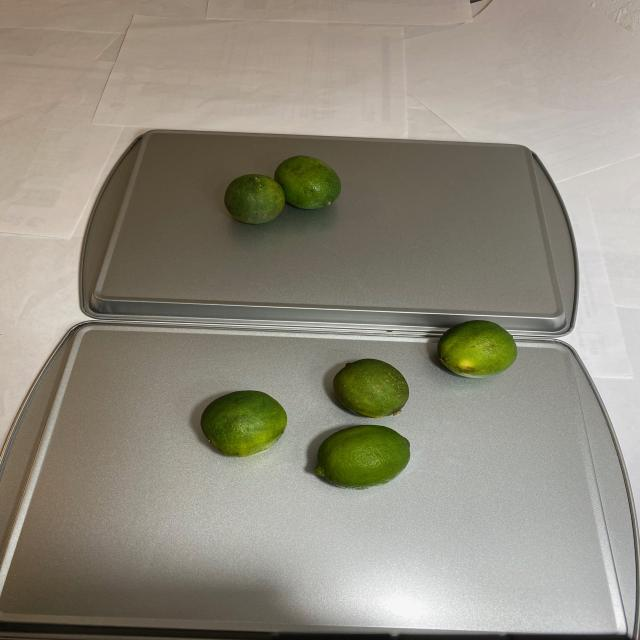lemon: (196, 318, 517, 503), (228, 153, 342, 226)
